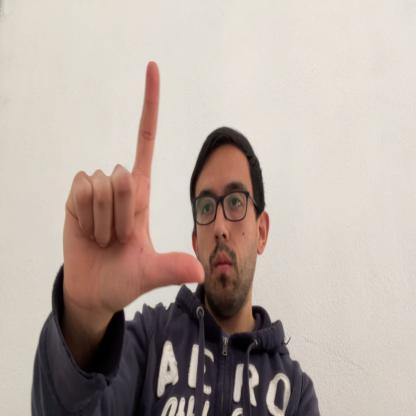L: (62, 60, 205, 311)
